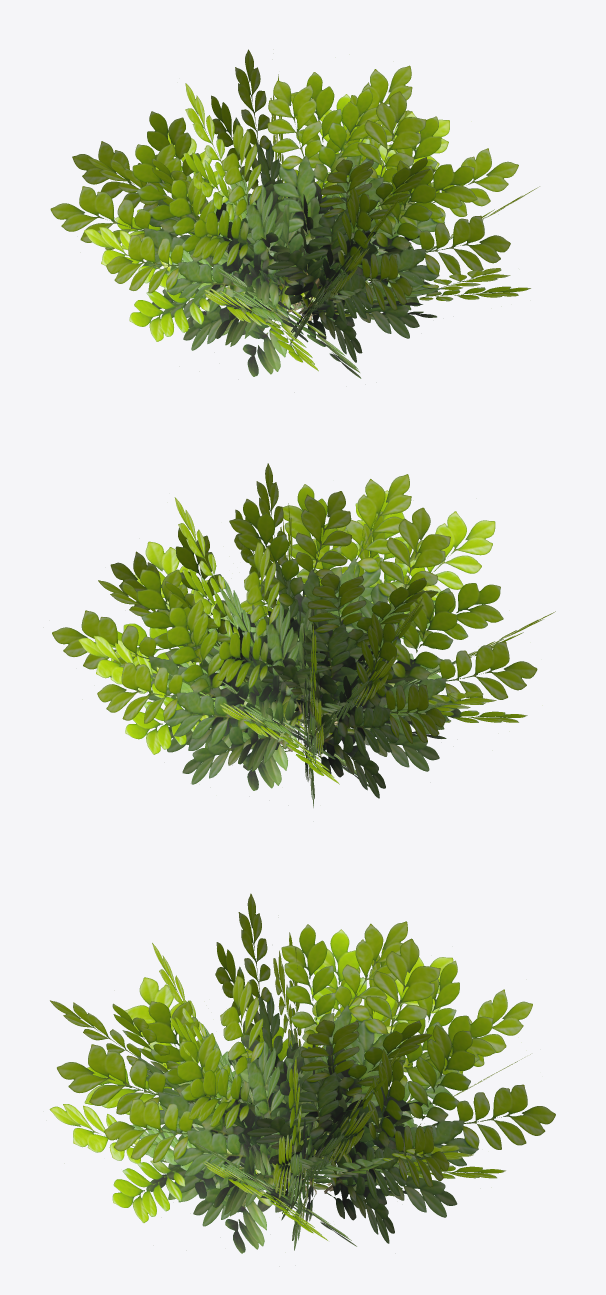
File: bush5.FBX
The picture shows the model from 3 angles, top to bottom: view 1: azimuth 30°, elevation 25°; view 2: azimuth 150°, elevation 25°; view 3: azimuth 270°, elevation 25°; orthographic projection. The views are drawn at different scales.
Visible parts, largest first — view 1: bush5; view 2: bush5; view 3: bush5.
Part boxes in pixels (x1=…): bush5: x1=50, y1=49, x2=539, y2=378; bush5: x1=52, y1=463, x2=555, y2=807; bush5: x1=49, y1=893, x2=555, y2=1253.
Bounding box in the file's own units: 8.26 × 5.28 × 7.93.
